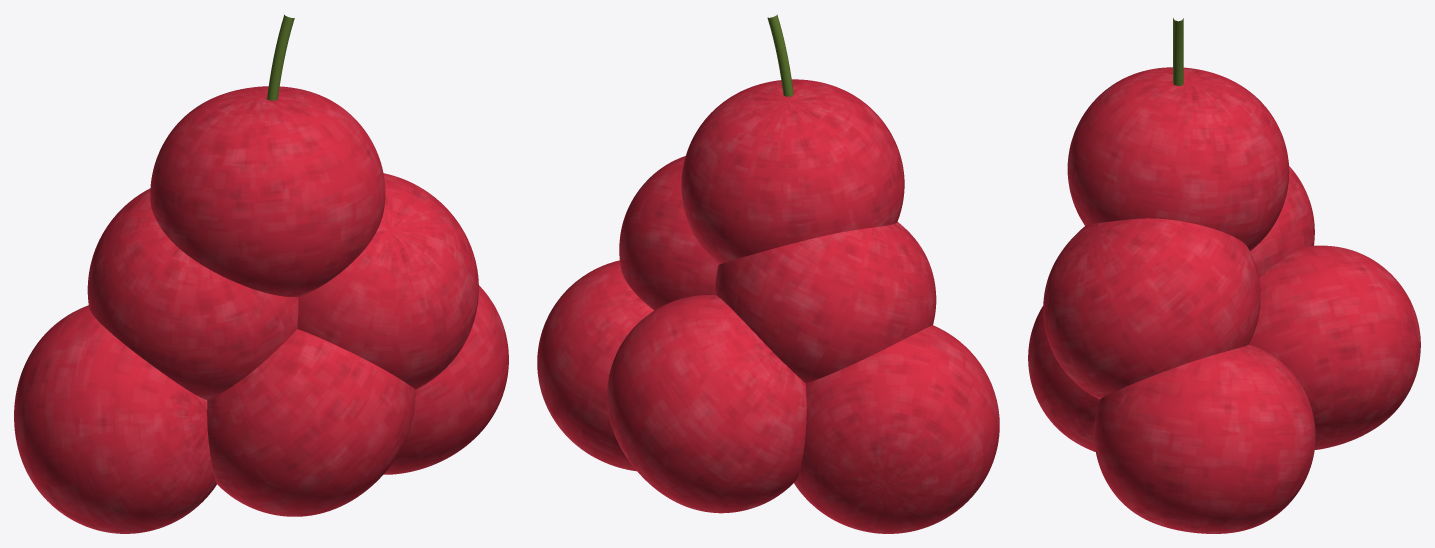
Rendered from redcurrant.glb.
3 views of the same model, side by side, from view 1: azimuth 30°, elevation 25°; view 2: azimuth 150°, elevation 25°; view 3: azimuth 270°, elevation 25° (orthographic). The views are drawn at different scales.
Size of the model in its own units: 0.133 by 0.1346 by 0.1039.
Materials: 2 (1 with a texture image).
